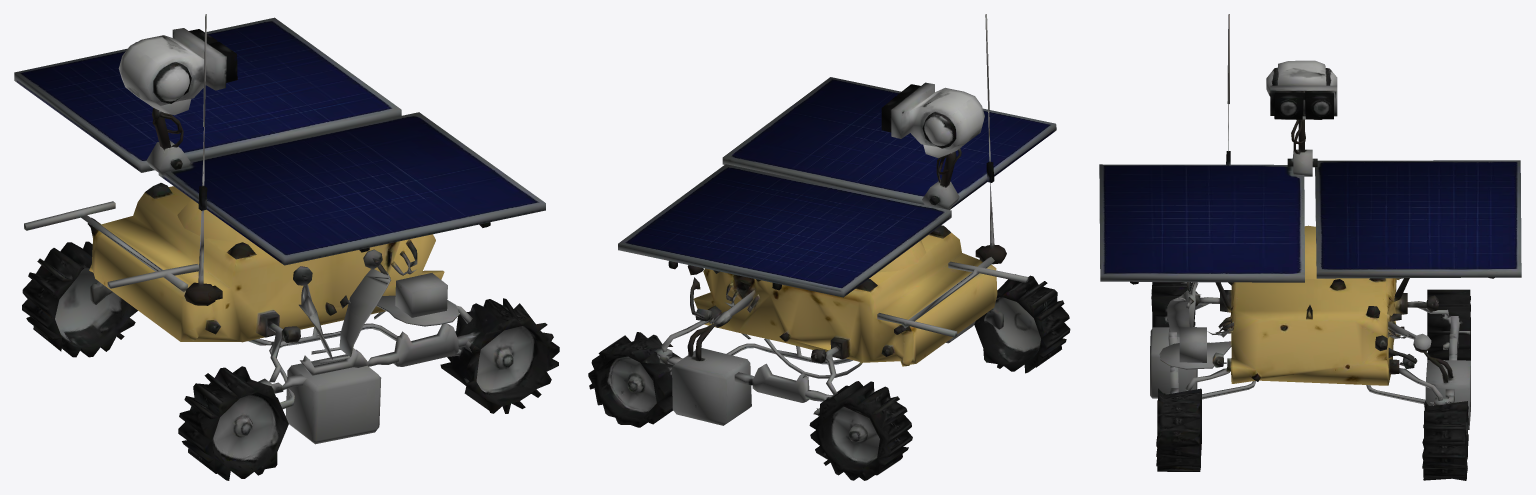
File: sojourner.glb
3 renders of one model, left to right at view 1: azimuth 30°, elevation 25°; view 2: azimuth 150°, elevation 25°; view 3: azimuth 270°, elevation 25°, orthographic. The views are drawn at different scales.
Parts seen in each view (by area): view 1: tripo_node_d895b6b5-d781-4228-b757-57a774a0f164; view 2: tripo_node_d895b6b5-d781-4228-b757-57a774a0f164; view 3: tripo_node_d895b6b5-d781-4228-b757-57a774a0f164.
Boxes of the visible parts, bbox=[...] form: tripo_node_d895b6b5-d781-4228-b757-57a774a0f164: bbox=[14, 14, 559, 480]; tripo_node_d895b6b5-d781-4228-b757-57a774a0f164: bbox=[588, 14, 1070, 480]; tripo_node_d895b6b5-d781-4228-b757-57a774a0f164: bbox=[1099, 14, 1521, 480].
Bounding box in the file's own units: 0.8652 × 0.9277 × 0.998.
Materials: 1 (1 with a texture image).
